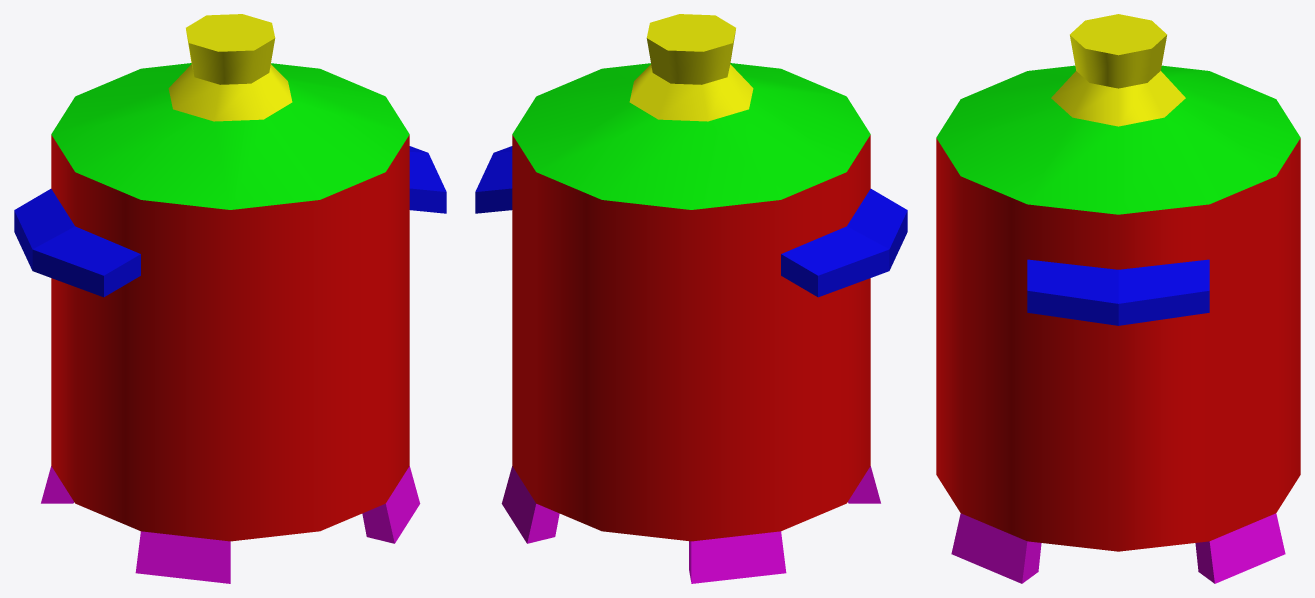
Rendered from Reiskocher_1_low.fbx.
3 views of the same model, side by side, from view 1: azimuth 30°, elevation 25°; view 2: azimuth 150°, elevation 25°; view 3: azimuth 270°, elevation 25° (orthographic).
Visible parts, largest first — view 1: Reiskocher_1_low; view 2: Reiskocher_1_low; view 3: Reiskocher_1_low.
Part boxes in pixels (bbox=[...]): Reiskocher_1_low: bbox=[14, 14, 446, 583]; Reiskocher_1_low: bbox=[475, 14, 907, 583]; Reiskocher_1_low: bbox=[936, 14, 1300, 583].
Size of the model in its own units: 38.26 by 43.47 by 30.
